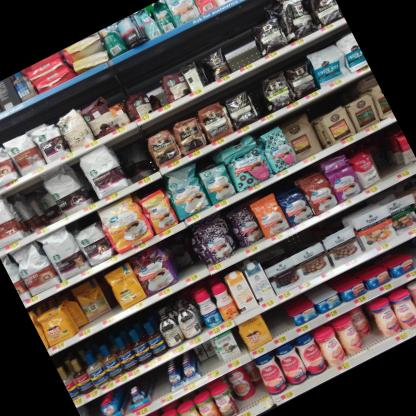empty_space: (221, 28, 262, 71), (366, 136, 401, 182), (261, 303, 294, 340), (149, 371, 174, 400), (405, 236, 416, 268), (87, 403, 101, 416)
